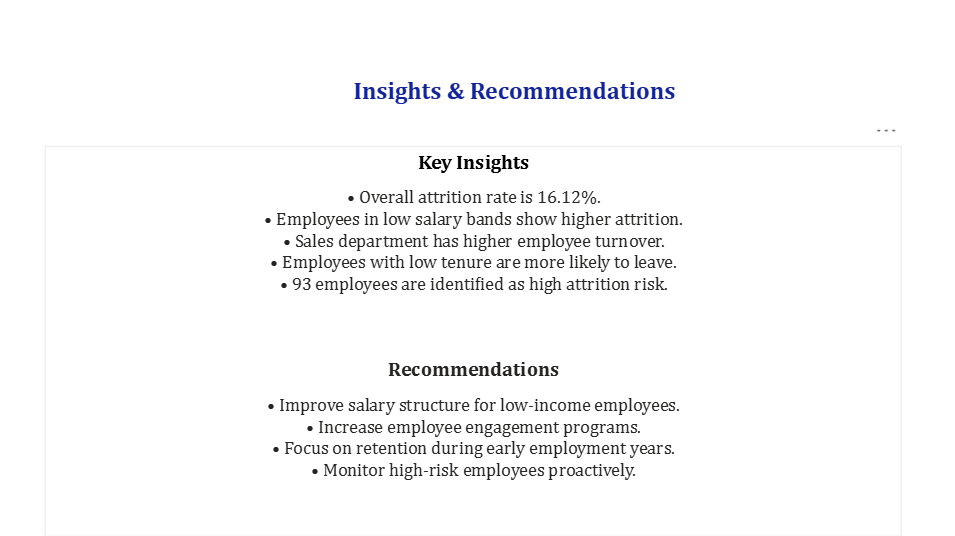

This screenshot's page, from the dashboard's own definition file:
{"tool":"powerbi","page":{"name":"Insights & Recommendations","canvas":[1280,720],"ordinal":2},"visuals":[{"type":"textbox","box":[65,198.3,1143.3,521.7],"z":0},{"type":"textbox","box":[131.7,65,1111.7,111.7],"z":1000}]}

Visuals, with their boxes in screenshot pixels (x1, y1, x2, y2), scaled from the page's 1280x720 canvas onto the 955x536 screenshot:
textbox: box=[48, 148, 902, 535]
textbox: box=[98, 48, 928, 132]
